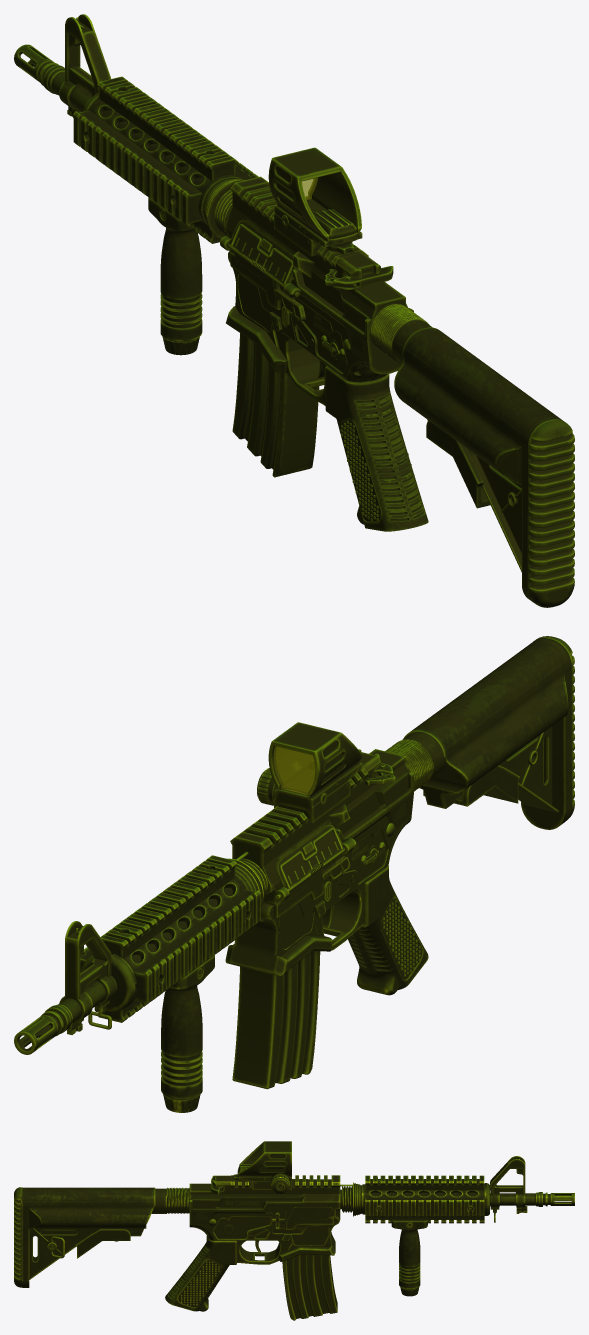
The model's file is m4_carbine_rifle.glb.
The picture shows the model from 3 angles, top to bottom: view 1: azimuth 30°, elevation 25°; view 2: azimuth 150°, elevation 25°; view 3: azimuth 270°, elevation 25°; orthographic projection. The views are drawn at different scales.
Visible parts, largest first — view 1: Object_29, Object_5, Object_11, Object_28, Object_9, Object_8, Object_23, Object_33, Object_19, Object_15, Object_7, Object_30 (+3 smaller); view 2: Object_29, Object_5, Object_11, Object_8, Object_23, Object_28, Object_33, Object_30, Object_19, Object_15, Object_4, Object_7 (+1 smaller); view 3: Object_29, Object_5, Object_11, Object_8, Object_28, Object_23, Object_33, Object_19, Object_15, Object_30, Object_9, Object_7 (+3 smaller).
Part boxes in pixels (<box>): Object_29: <box>214,176,413,405</box>; Object_5: <box>394,327,562,602</box>; Object_11: <box>73,76,258,243</box>; Object_28: <box>325,365,428,531</box>; Object_9: <box>527,419,574,607</box>; Object_8: <box>232,333,324,477</box>; Object_23: <box>268,147,362,256</box>; Object_33: <box>148,197,202,341</box>; Object_19: <box>59,14,110,117</box>; Object_15: <box>369,303,432,364</box>; Object_7: <box>326,242,490,508</box>; Object_30: <box>48,69,340,356</box>; Object_29: <box>225,749,413,975</box>; Object_5: <box>403,638,571,829</box>; Object_11: <box>80,855,260,1022</box>; Object_8: <box>232,905,333,1089</box>; Object_23: <box>268,722,362,823</box>; Object_28: <box>348,865,428,995</box>; Object_33: <box>161,955,214,1098</box>; Object_30: <box>56,746,378,1025</box>; Object_19: <box>59,921,117,1034</box>; Object_15: <box>385,732,445,791</box>; Object_4: <box>14,1005,71,1054</box>; Object_7: <box>423,765,519,806</box>; Object_29: <box>189,1175,352,1264</box>; Object_5: <box>22,1187,155,1287</box>; Object_11: <box>362,1175,486,1223</box>; Object_8: <box>51,1236,337,1320</box>; Object_28: <box>165,1236,236,1311</box>; Object_23: <box>237,1141,291,1189</box>; Object_33: <box>391,1219,427,1288</box>; Object_19: <box>490,1156,527,1213</box>; Object_15: <box>151,1187,189,1213</box>; Object_30: <box>371,1180,538,1215</box>; Object_9: <box>14,1187,22,1287</box>; Object_7: <box>75,1174,248,1258</box>.
Size of the model in its own units: 0.4337 by 1.69 by 5.08.
Materials: 1 (1 with a texture image).
